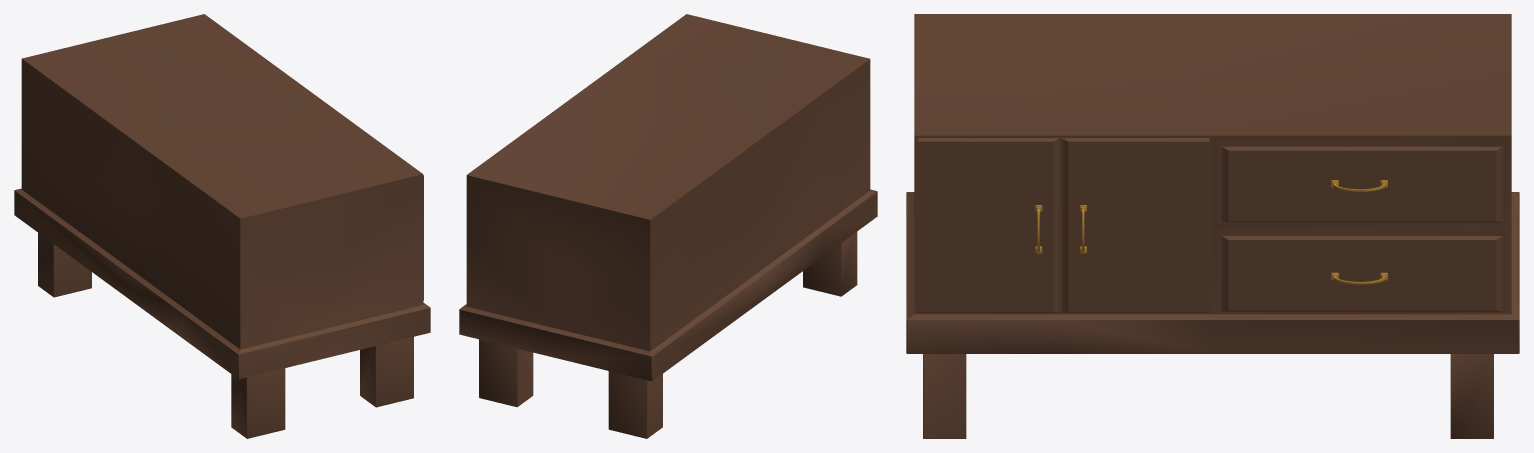
Rendered from Drawer (Final).fbx.
3 renders of one model, left to right at view 1: azimuth 30°, elevation 25°; view 2: azimuth 150°, elevation 25°; view 3: azimuth 270°, elevation 25°, orthographic. The views are drawn at different scales.
Visible parts, largest first — view 1: Cabinet'.001; view 2: Cabinet'.001; view 3: Cabinet'.001, holder.002.
Boxes of the visible parts, bbox=[...] form: Cabinet'.001: bbox=[14, 14, 430, 438]; Cabinet'.001: bbox=[459, 14, 877, 438]; Cabinet'.001: bbox=[906, 14, 1519, 438]; holder.002: bbox=[1079, 180, 1387, 284].
Bounding box in the file's own units: 70.95 × 76.09 × 138.
